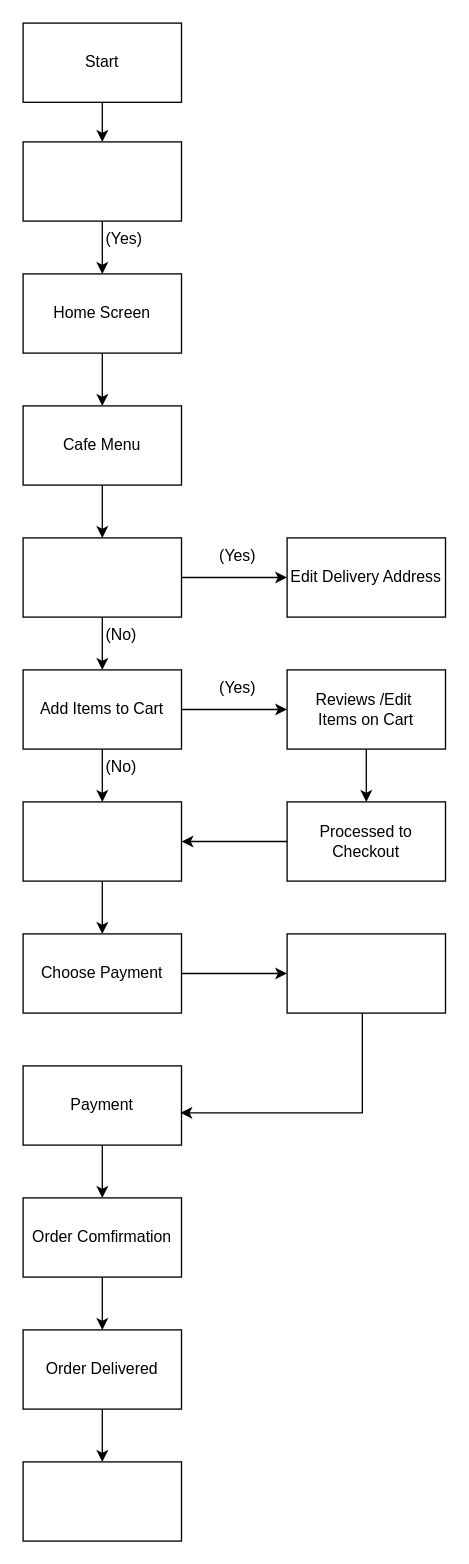
The diagram is 469 pixels wide and 1564 high, and some of its shapes have lost their labels. Each missing label, with the centre of its shape:
Checkout: pixel 102 841
Choose Payment Method: pixel 366 973
Complete Order: pixel 102 1501
Enter Delivery Address: pixel 102 577
Login / Sign Up: pixel 102 181
